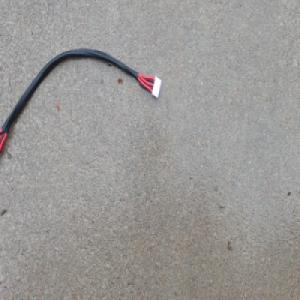Wire: (0, 46, 161, 157)
